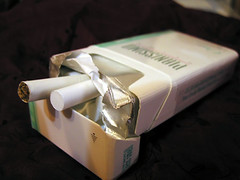cigarette: (29, 27, 240, 180), (17, 74, 90, 104), (50, 79, 101, 111)
